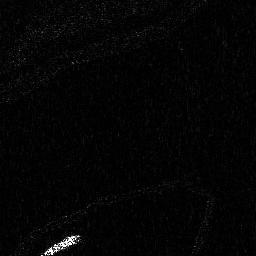ship: (41, 233, 86, 256)
